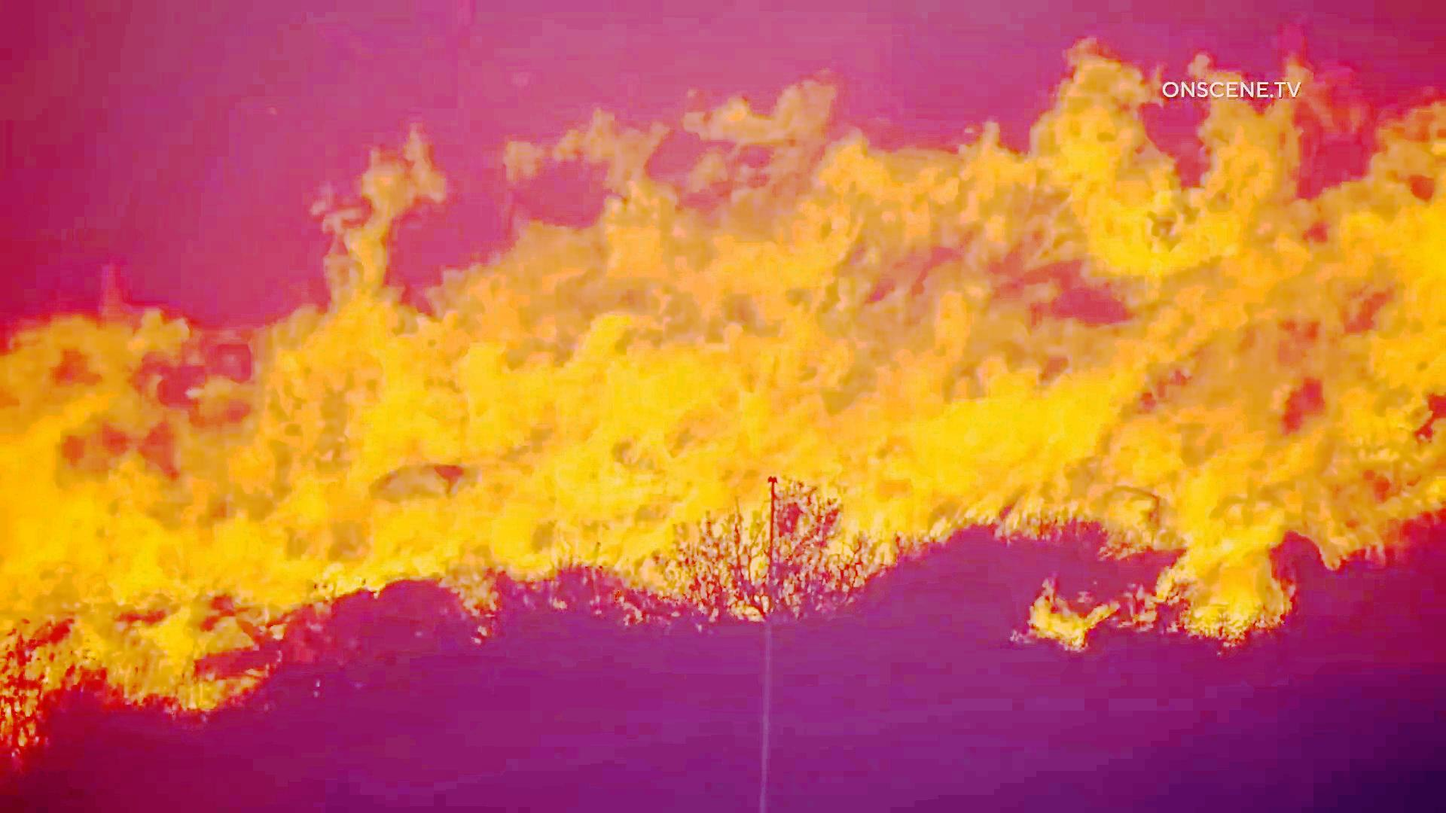fire: (644, 29, 1153, 541), (248, 111, 667, 642), (1139, 98, 1446, 607), (6, 239, 269, 711)
